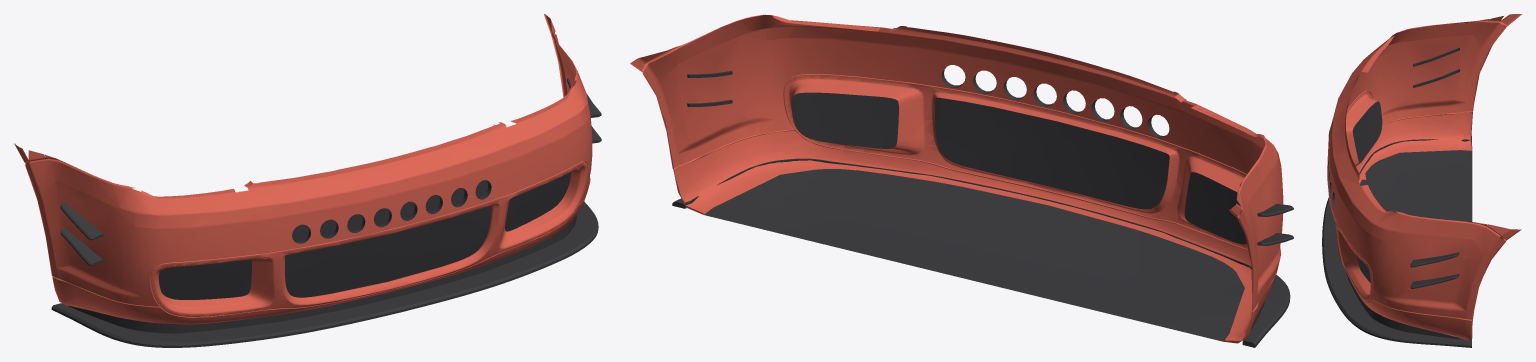
The model's file is wendtStrom_frontBumper_trackMild.glb.
3 views of the same model, side by side, from view 1: azimuth 30°, elevation 25°; view 2: azimuth 150°, elevation 25°; view 3: azimuth 270°, elevation 25° (orthographic). The views are drawn at different scales.
Parts seen in each view (by area): view 1: frontBumper_trackMild; view 2: frontBumper_trackMild; view 3: frontBumper_trackMild.
Part boxes in pixels (x1=…): frontBumper_trackMild: x1=14, y1=14, x2=601, y2=347; frontBumper_trackMild: x1=630, y1=14, x2=1293, y2=347; frontBumper_trackMild: x1=1322, y1=14, x2=1521, y2=347.
Size of the model in its own units: 1.73 by 0.4573 by 0.6768.
